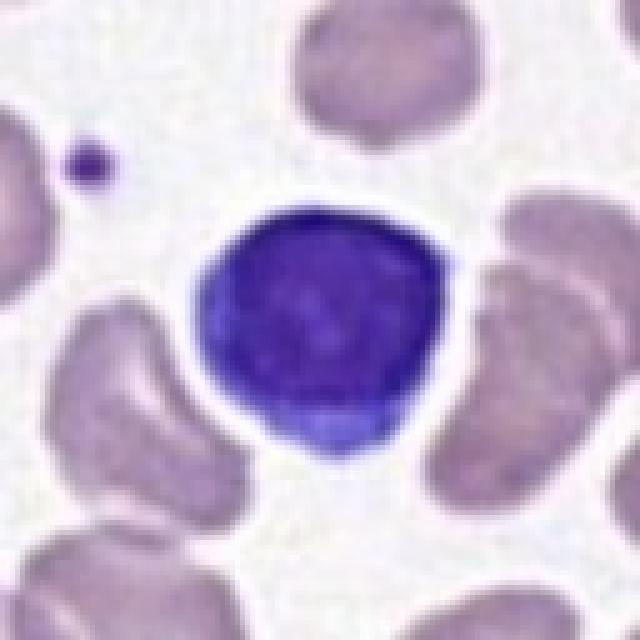lympho: (186, 184, 462, 470)
